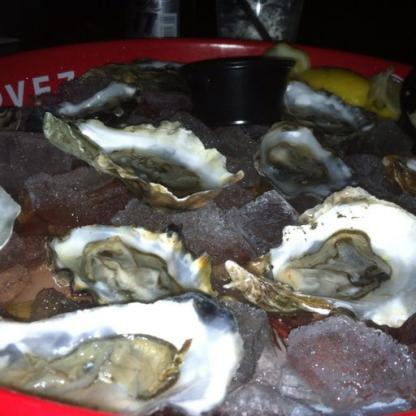oyster: (0, 297, 242, 415), (238, 190, 415, 332), (38, 110, 235, 207)
